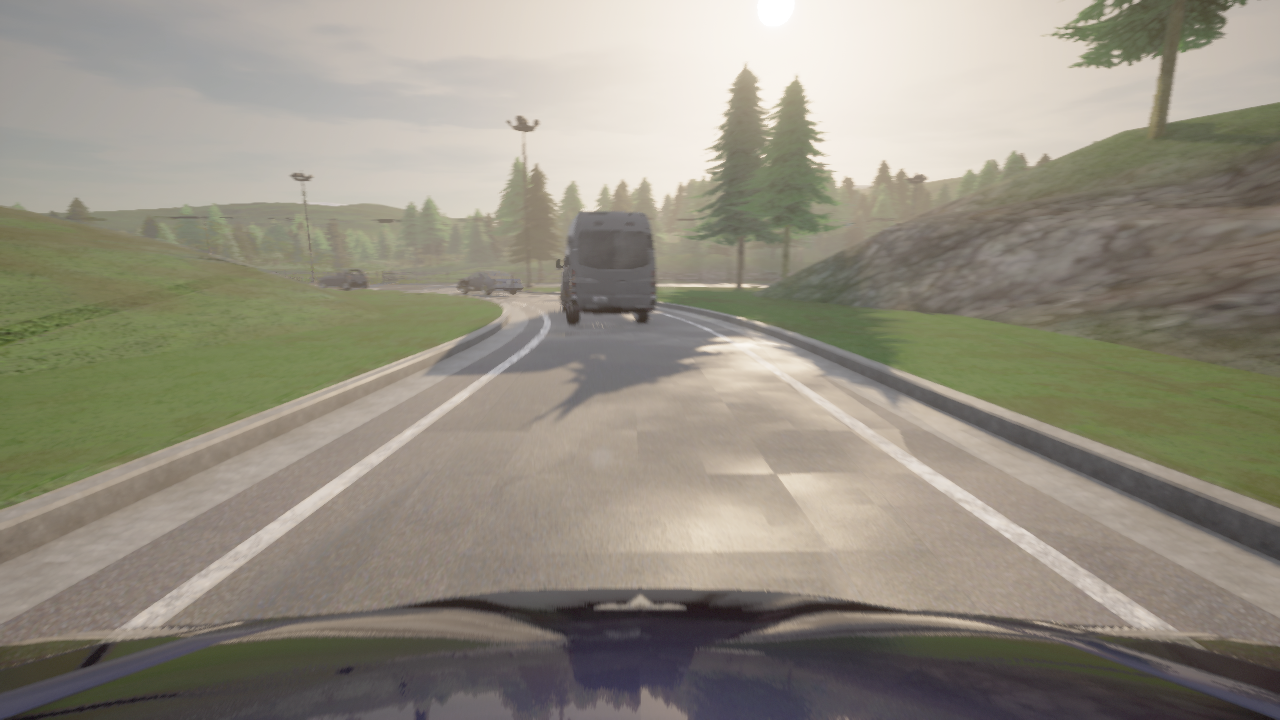cyclist: (0, 588, 1279, 719), (555, 211, 655, 323), (457, 270, 523, 295), (318, 269, 367, 288)
